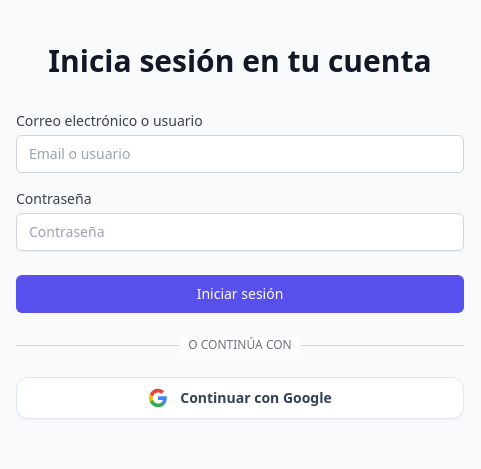
Login Component › displays error message when login fails
Type "wrong@example.com" into the field labelled "Correo electrónico o usuario". click: [240, 154]
box: left=16, top=135, right=464, bottom=173
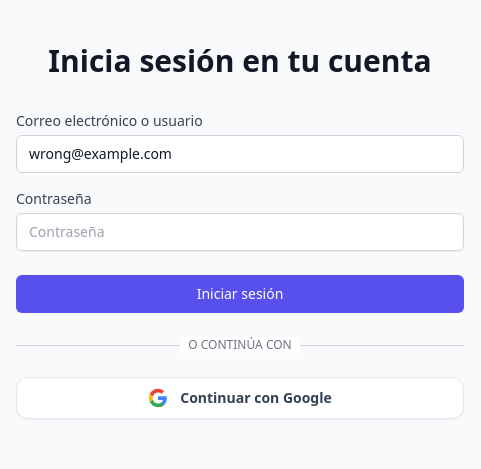
Type "wrongpass" into the password field labelled "Contraseña". click: [240, 232]
box: left=16, top=213, right=464, bottom=251
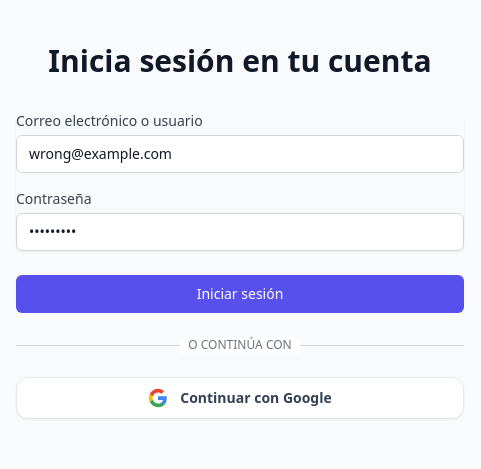
Click the button "Iniciar sesión". click: [240, 294]
box: left=16, top=275, right=464, bottom=313
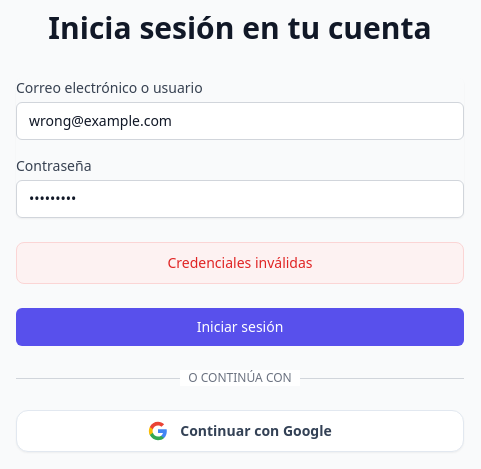
Expected: the text "Credenciales inválidas" is shown, left=16, top=242, right=464, bottom=284
